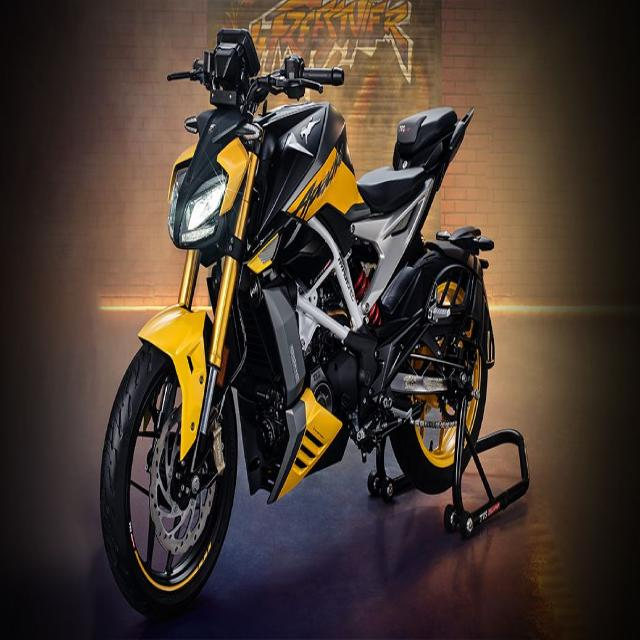motorcycle: (100, 29, 525, 614)
